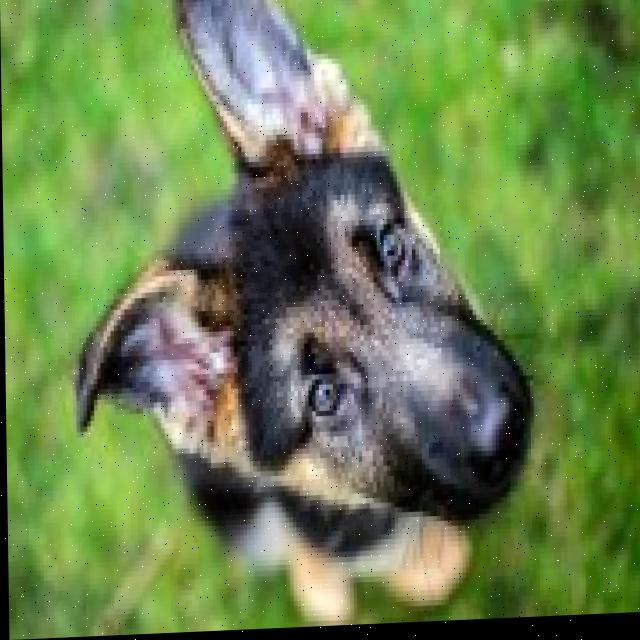GERMAN_SHEPHERD: (63, 0, 543, 638)
